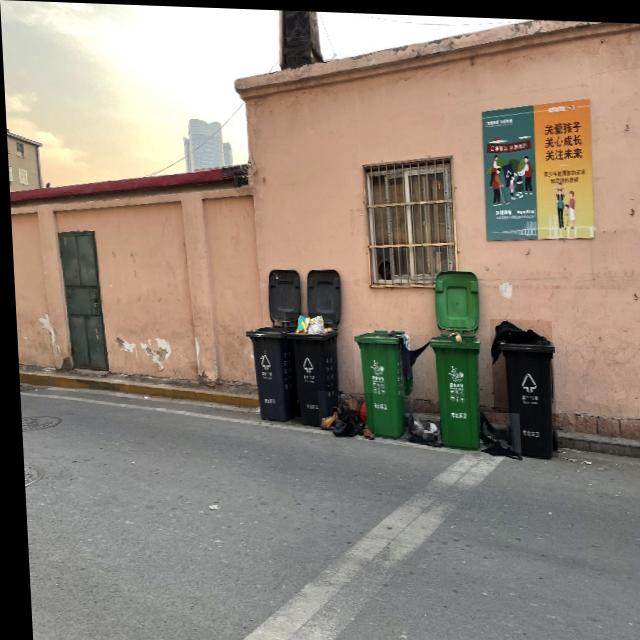garbage: (313, 389, 370, 436), (474, 408, 517, 457), (401, 409, 437, 442)
garbage_bin: (425, 327, 482, 446), (241, 321, 295, 420)
overflow: (486, 315, 554, 454), (349, 326, 410, 435), (282, 310, 337, 423)
